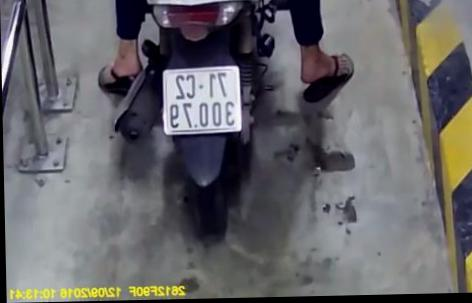License_Plate: (158, 61, 248, 145)
